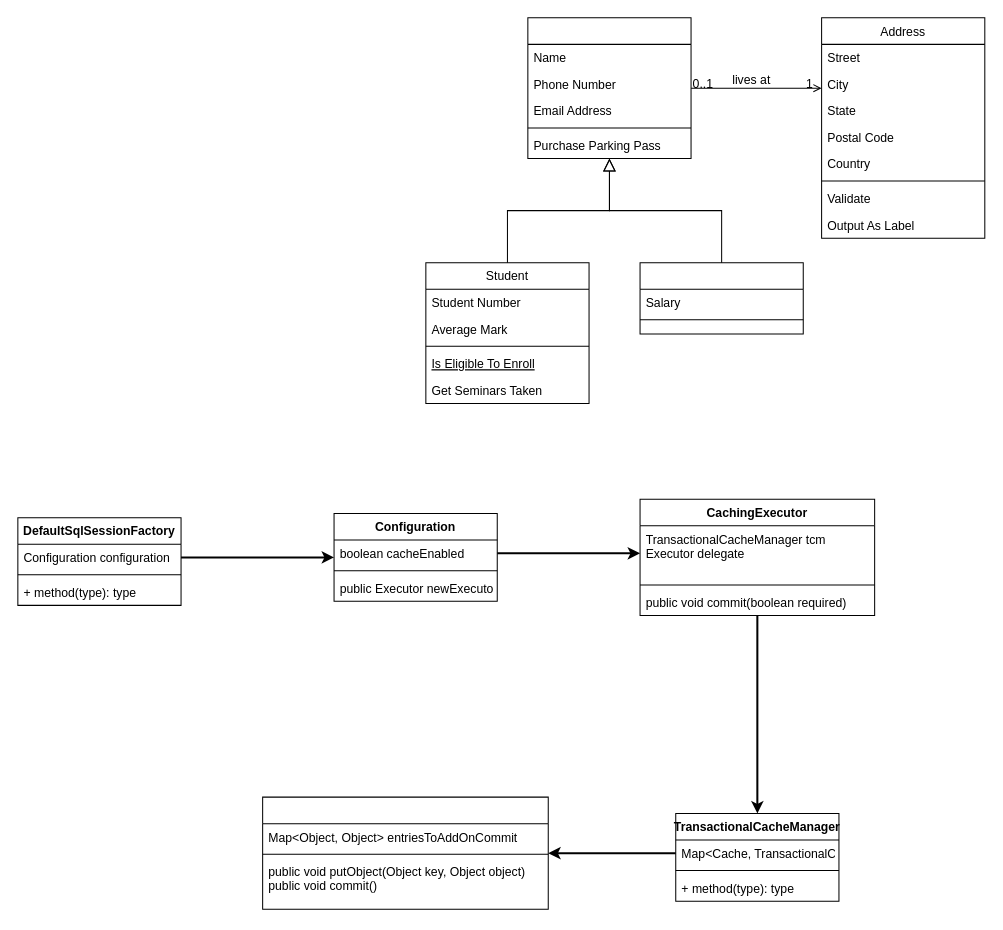
Image size: 1003x930. Some labels were removed from this diagram. Here are the shapes that lost their labels. From the top down, the box of each, then its label:
(527, 17, 691, 159): Person
(639, 262, 803, 334): Professor
(262, 796, 548, 909): TransactionalCache
